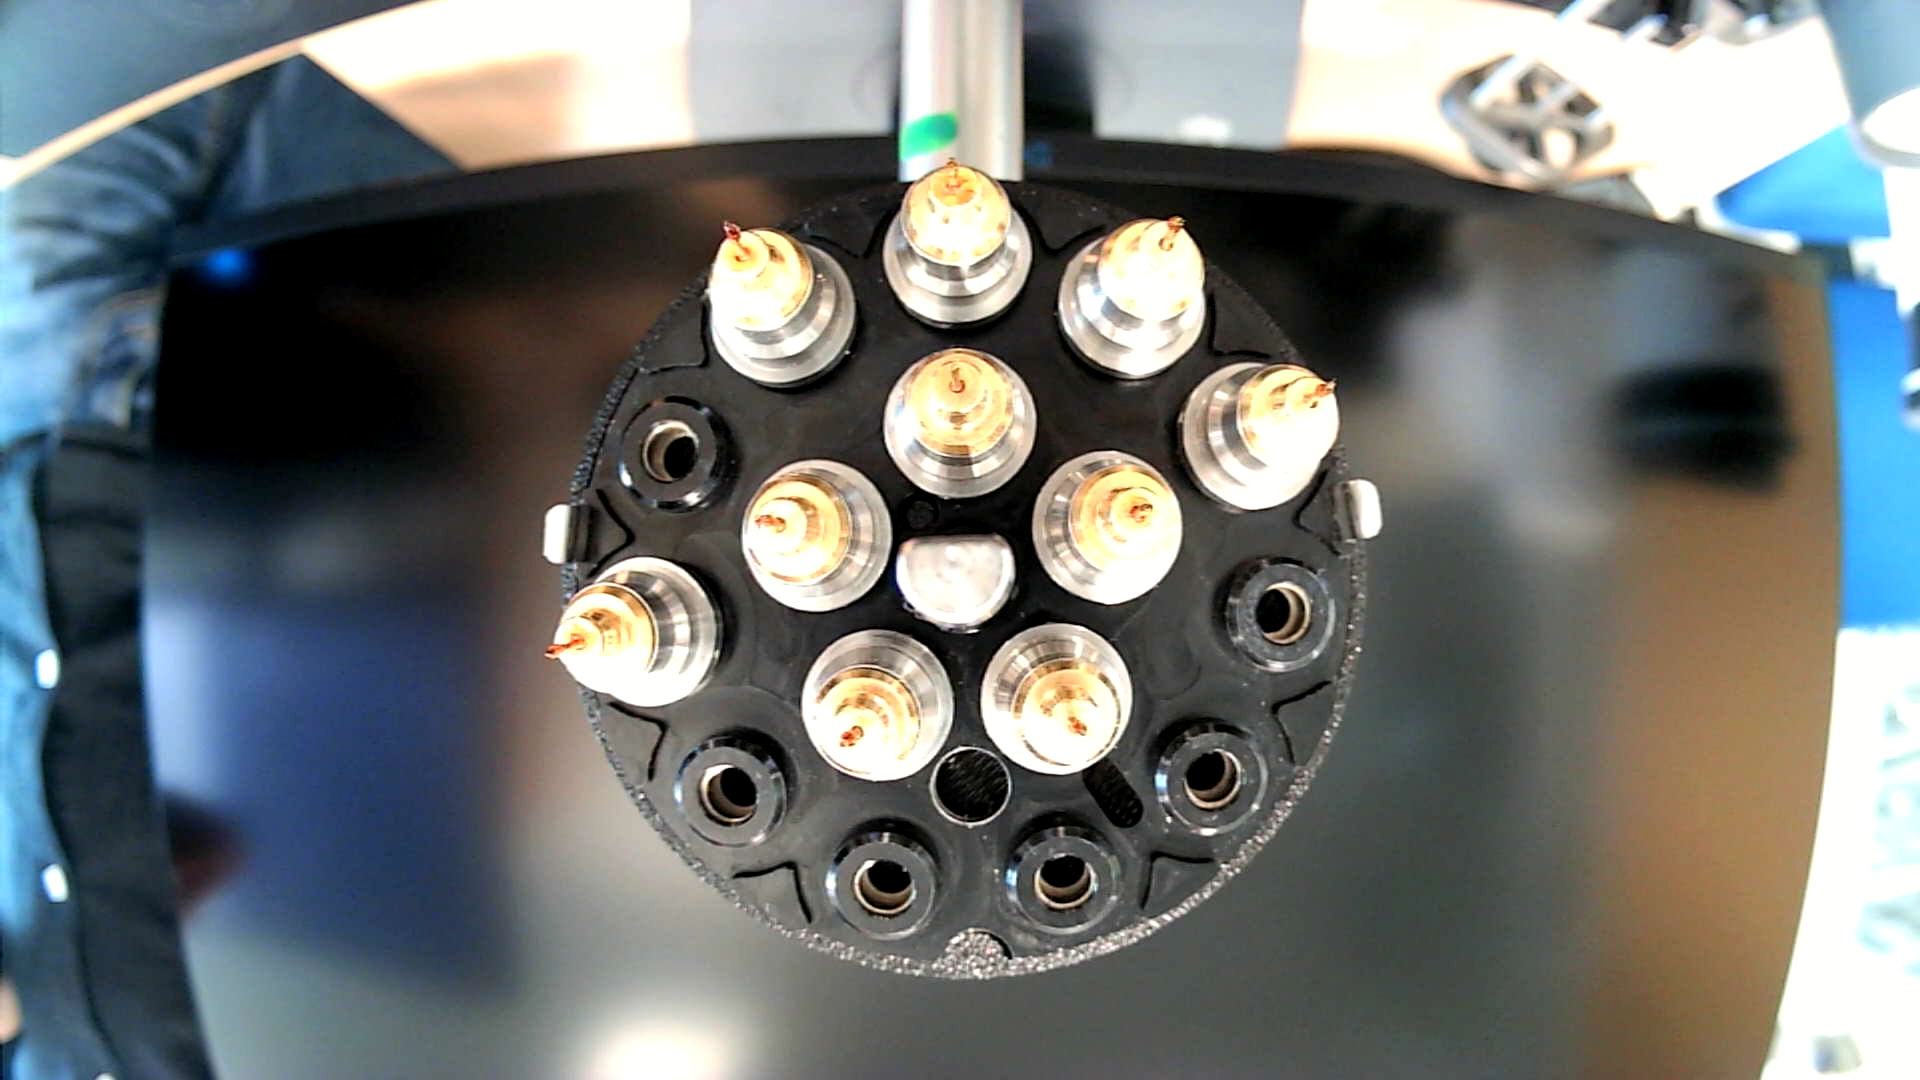empty: (819, 816, 957, 949), (674, 723, 804, 856), (1145, 709, 1273, 843), (615, 393, 742, 524), (1211, 549, 1342, 675), (1002, 808, 1127, 942)
hole: (927, 742, 1014, 831)
pin: (543, 555, 725, 715), (700, 218, 857, 396), (878, 158, 1031, 334), (1054, 212, 1205, 384), (800, 626, 959, 785), (1179, 359, 1342, 512), (738, 458, 894, 617), (880, 347, 1038, 501), (1030, 448, 1184, 607), (980, 618, 1135, 774)
rod: (890, 529, 1021, 637)
